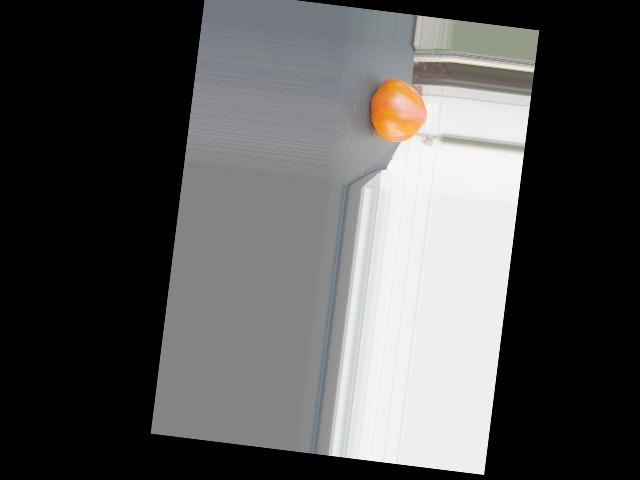tomato: (366, 76, 431, 145)
